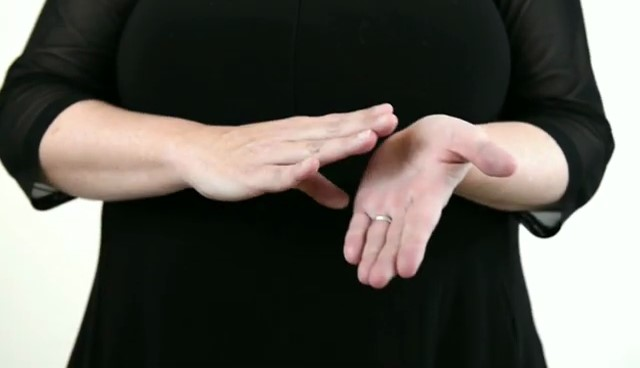H: (185, 96, 522, 290)
